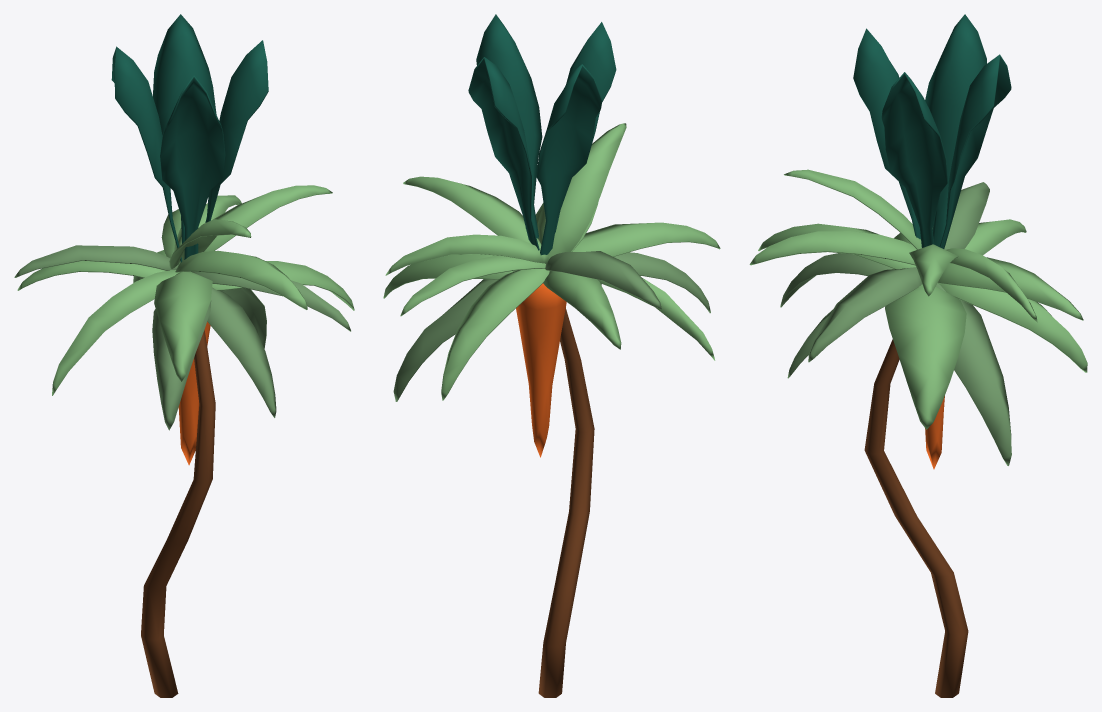
The model's file is Tree-Carrot-no2.gltf.
3 renders of one model, left to right at view 1: azimuth 30°, elevation 25°; view 2: azimuth 150°, elevation 25°; view 3: azimuth 270°, elevation 25°, orthographic. The views are drawn at different scales.
Parts seen in each view (by area): view 1: Tree-Carrot-no2; view 2: Tree-Carrot-no2; view 3: Tree-Carrot-no2.
Boxes of the visible parts, x1,y1,x2,y2 form: Tree-Carrot-no2: (14, 14, 354, 697); Tree-Carrot-no2: (383, 14, 720, 697); Tree-Carrot-no2: (749, 14, 1087, 697).
Bounding box in the file's own units: 2.88 × 5.61 × 2.61.
1 material, 1 textured.
